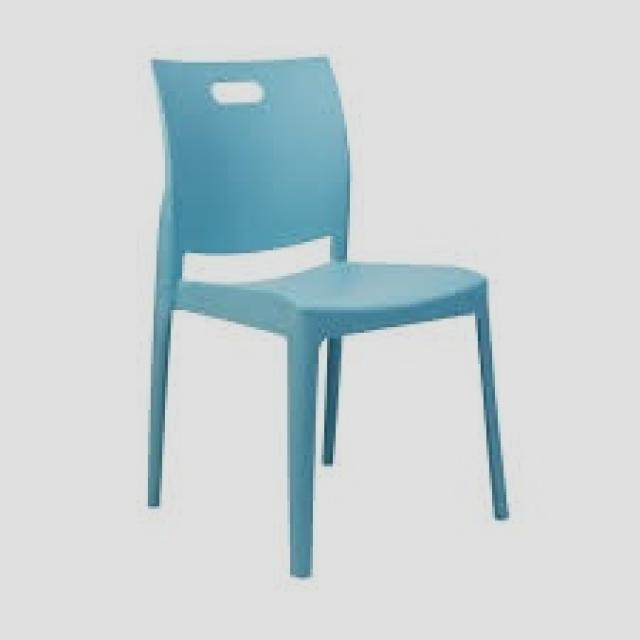Chair: (140, 50, 516, 582)
